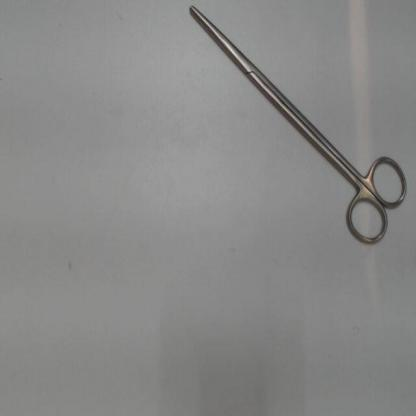9 Metzenbaum Scissors: (186, 3, 413, 254)
